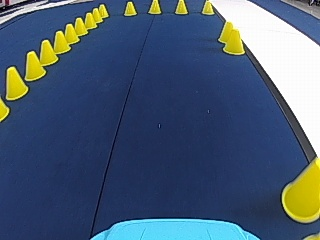cone: (280, 158, 319, 223), (4, 65, 28, 100), (222, 27, 245, 55), (24, 50, 45, 80), (39, 39, 58, 65), (217, 20, 234, 43), (53, 30, 69, 53), (64, 23, 79, 43), (0, 97, 10, 122), (74, 17, 87, 35), (123, 1, 137, 16), (84, 12, 96, 29), (148, 0, 161, 14), (175, 0, 188, 14), (202, 0, 214, 14), (91, 8, 102, 22), (98, 4, 108, 17)
